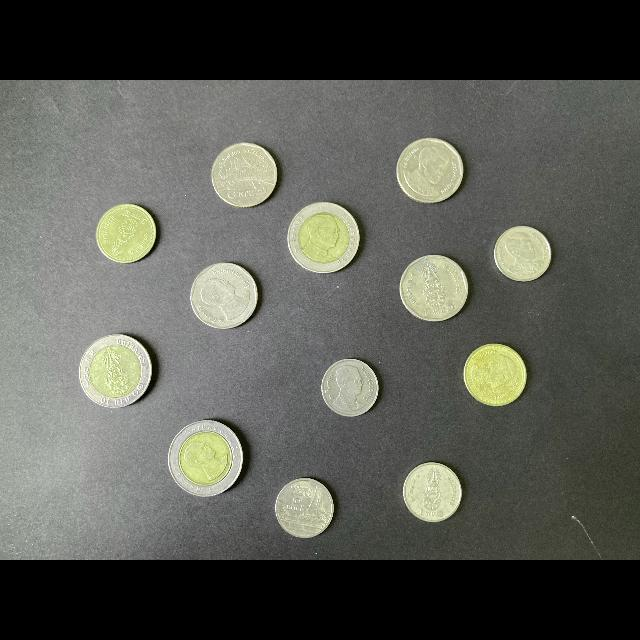1 Bath: (273, 477, 343, 542), (401, 460, 466, 526), (493, 223, 555, 286), (320, 358, 382, 419)
10 Bath: (77, 329, 158, 416), (166, 417, 250, 500), (287, 200, 365, 280)
2 Bath: (461, 340, 532, 413), (94, 198, 160, 272)
5 Bath: (187, 256, 265, 336), (207, 139, 284, 213), (397, 254, 475, 326), (396, 135, 468, 209)
